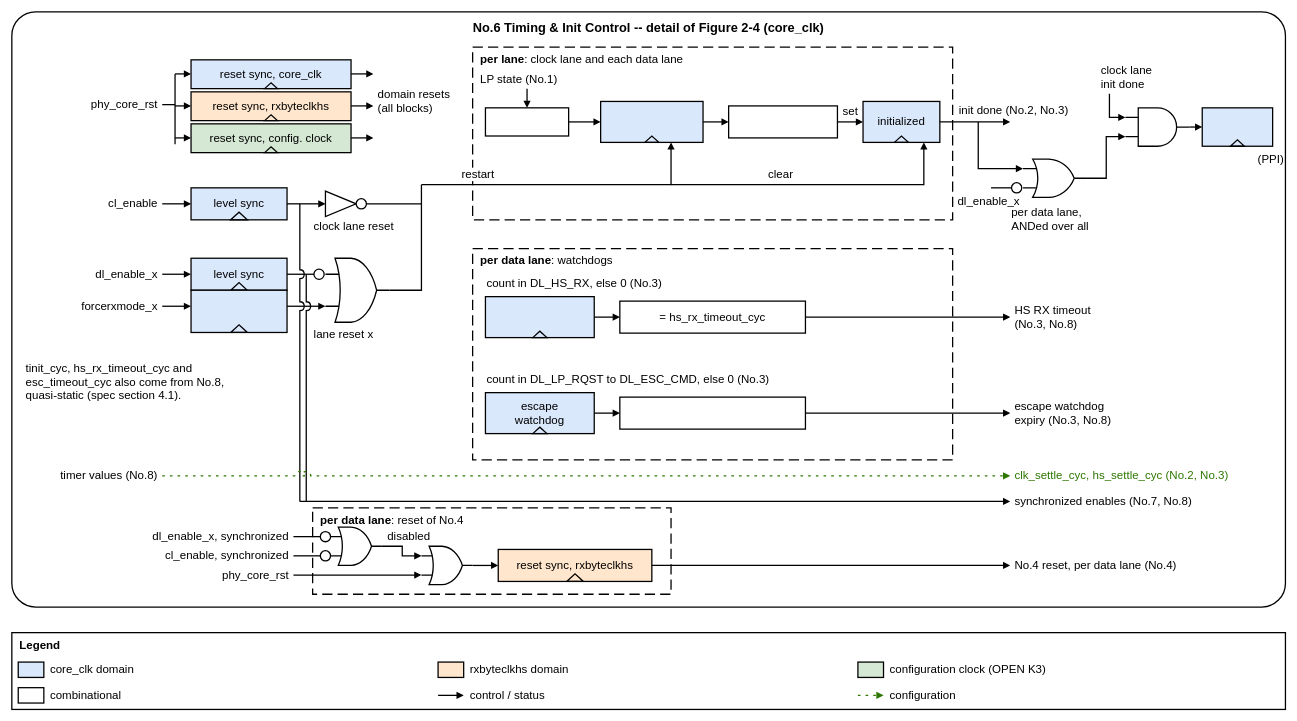
This 1297x721 diagram has some shape labels left out. Here are the shapes that lost their labels. From the top down, the box of each, then its label:
(484, 107, 569, 136): = LP-11
(600, 100, 703, 143): LP-11 cycles
(728, 105, 838, 138): = tinit_cyc
(1201, 107, 1273, 147): init_done
(190, 289, 287, 333): level sync, rising edge
(484, 296, 595, 338): HS RX timeout
(619, 396, 806, 429): = esc_timeout_cyc
